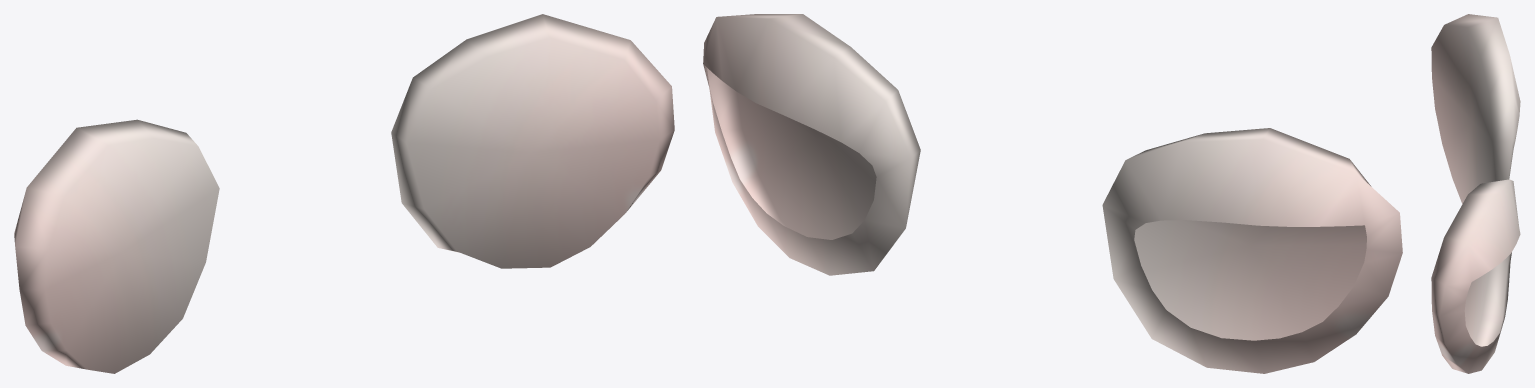
File: sit_test.008.obj
3 views of the same model, side by side, from view 1: azimuth 30°, elevation 25°; view 2: azimuth 150°, elevation 25°; view 3: azimuth 270°, elevation 25° (orthographic). The views are drawn at different scales.
Visible parts, largest first — view 1: sit_test.008_sit_test.041; view 2: sit_test.008_sit_test.041; view 3: sit_test.008_sit_test.041.
Boxes of the visible parts, x1,y1,x2,y2 form: sit_test.008_sit_test.041: (14, 14, 674, 373); sit_test.008_sit_test.041: (703, 14, 1402, 373); sit_test.008_sit_test.041: (1431, 14, 1520, 373).
Size of the model in its own units: 0.2713 by 0.092 by 0.041.
